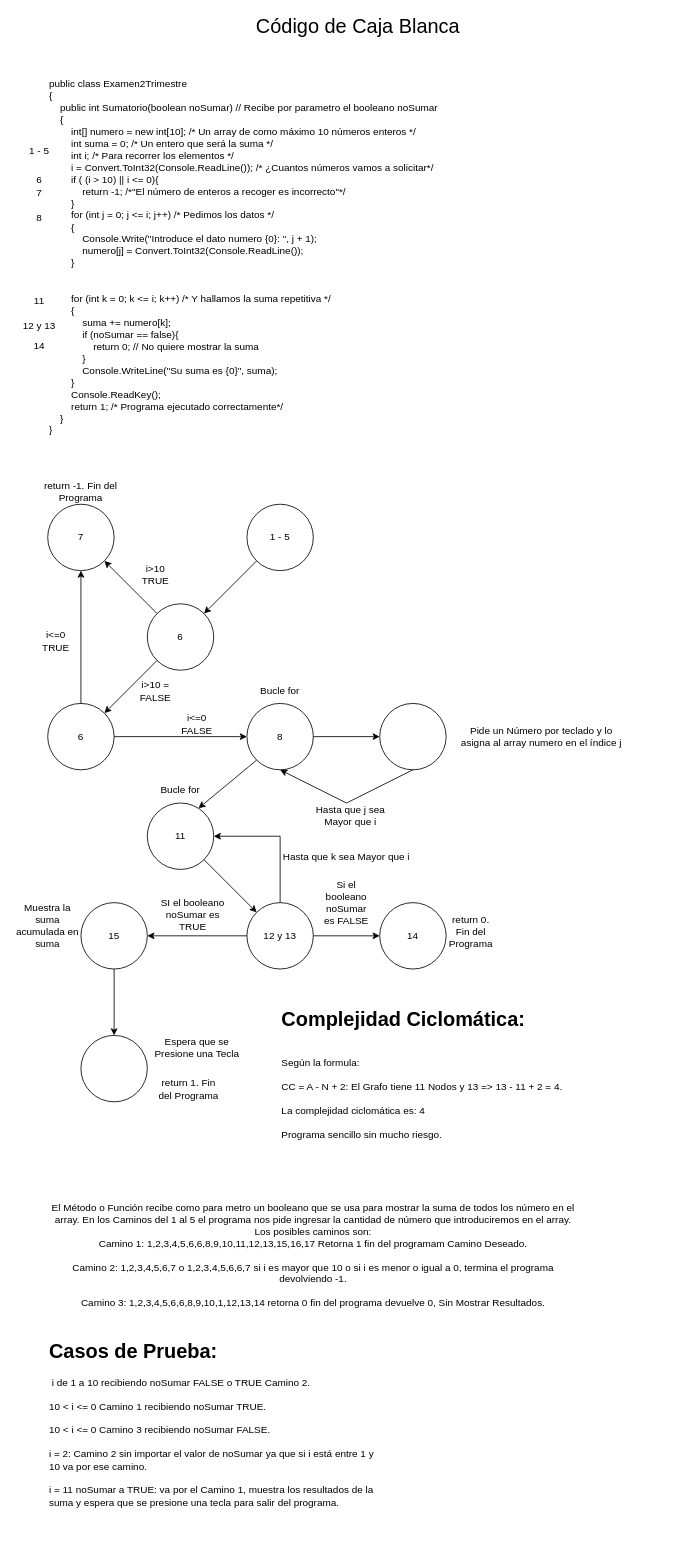
The diagram is 692 pixels wide and 1550 high, and some of its shapes have lost their labels. Each missing label, with the centre of its shape:
16 y 17: (113,1068)
9 y 10: (412,736)
